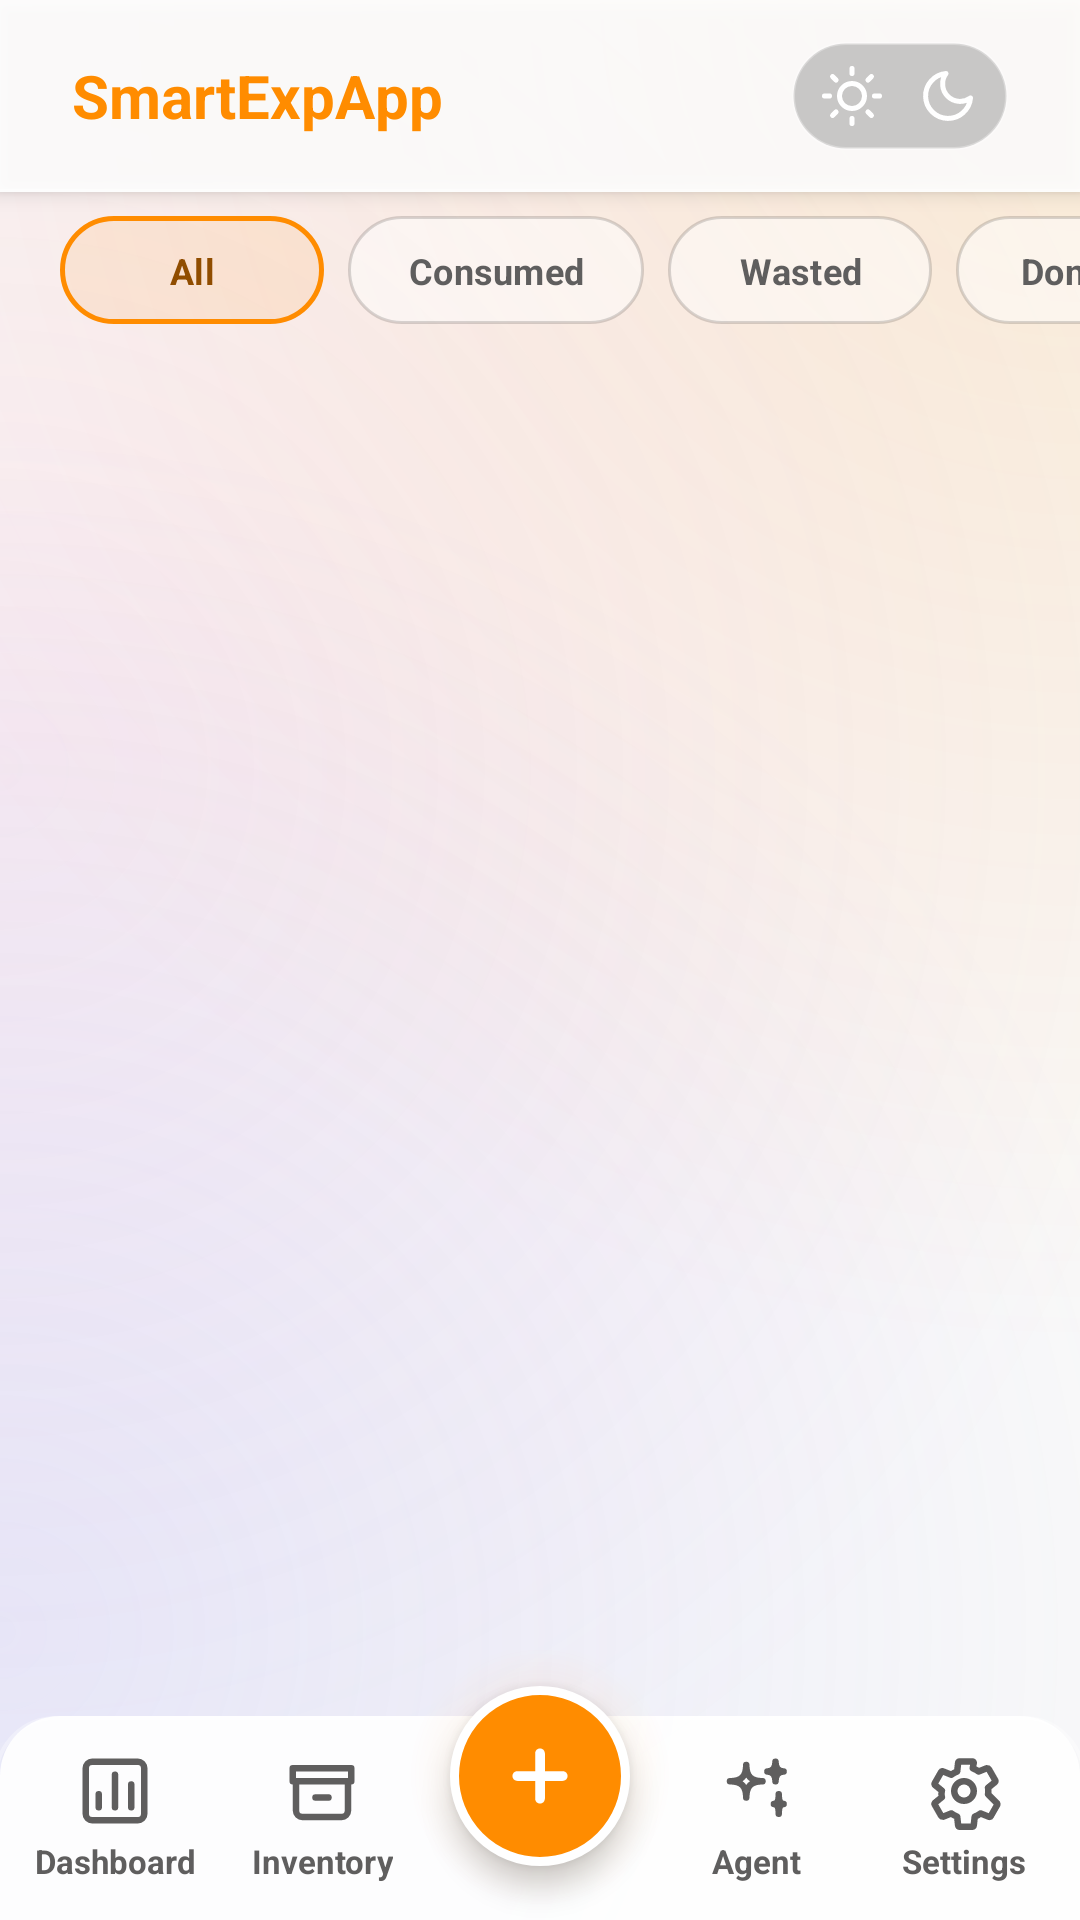

Screen size 1080px×1920px. Icon name, then its box in pixels as (x1, y1, x2, y2):
Add Product: (512, 1748, 568, 1804)
theme moon: (923, 71, 973, 121)
theme sun: (822, 66, 882, 126)
